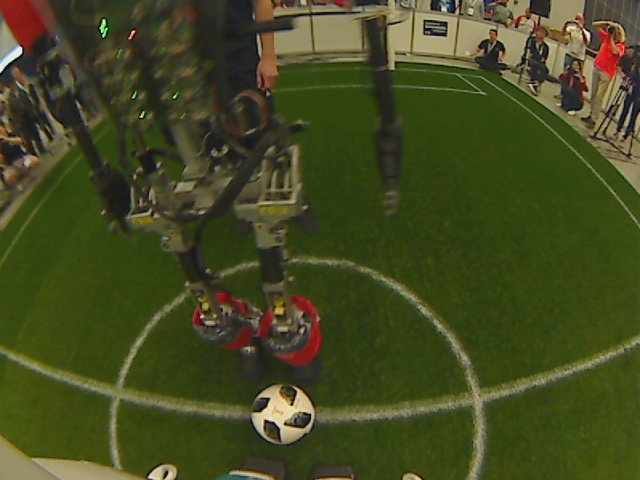ball: (248, 380, 321, 449)
